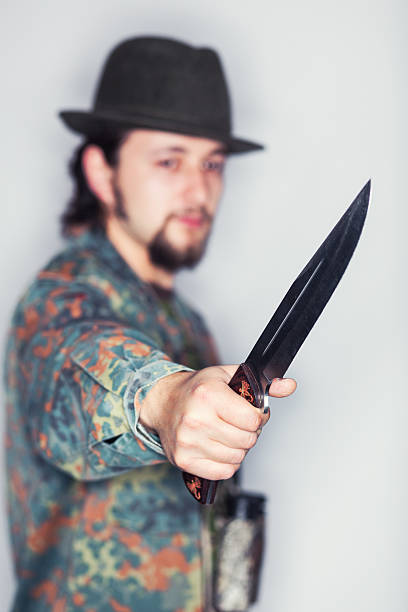knife: (184, 177, 372, 509)
